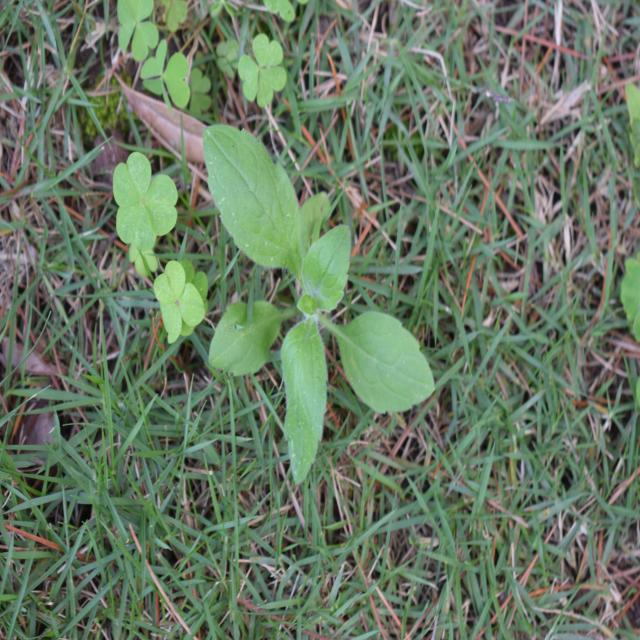horseweed: (210, 142, 422, 453)
